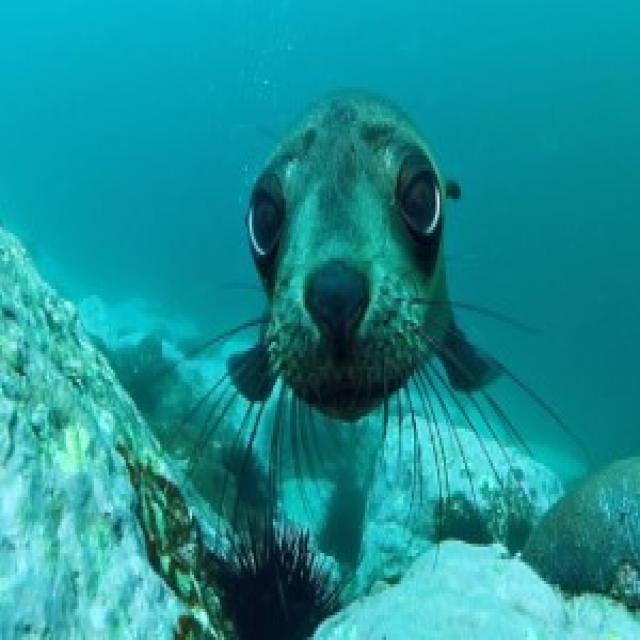Seal: (209, 90, 539, 460)
